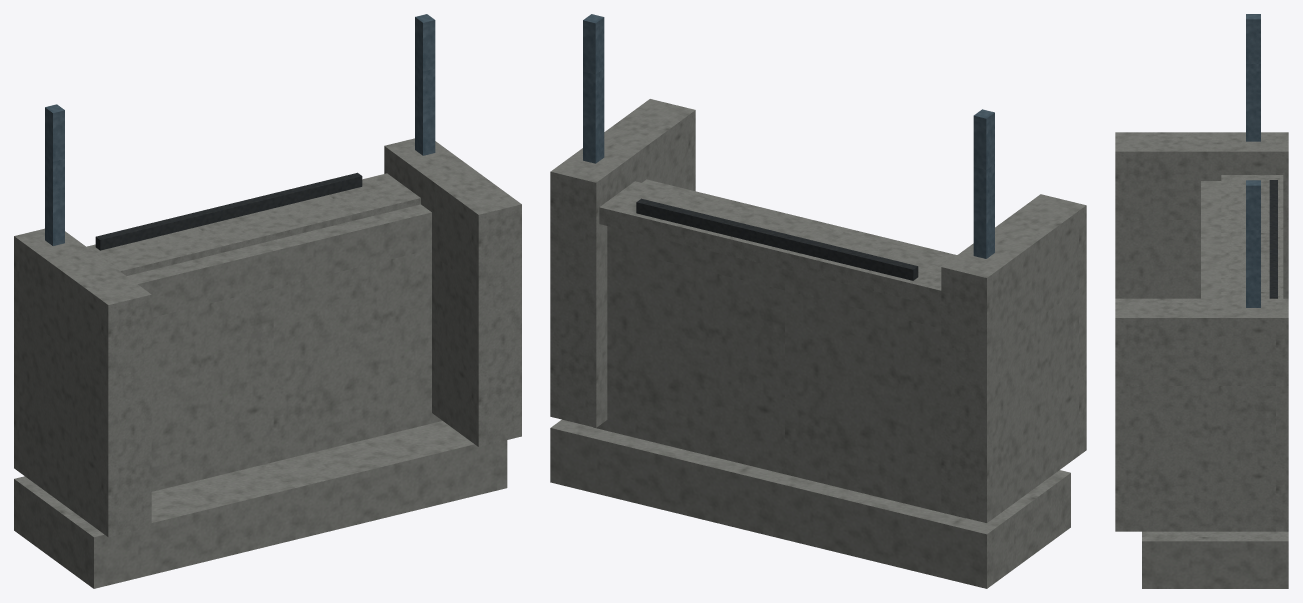
File: PZ_Caldera_EndAbutment.glb
3 renders of one model, left to right at view 1: azimuth 30°, elevation 25°; view 2: azimuth 150°, elevation 25°; view 3: azimuth 270°, elevation 25°, orthographic. The views are drawn at different scales.
Parts seen in each view (by area): view 1: PZ_Caldera_EndAbutment_CONCRETE_END_WALL, PZ_Caldera_EndAbutment_PEDESTAL_BASE, PZ_Caldera_EndAbutment_SIDE_CHEEK_L, PZ_Caldera_EndAbutment_SIDE_CHEEK_R, PZ_Caldera_EndAbutment_BEARING_SHELF, PZ_Caldera_EndAbutment_RUBBER_END_BEARING, PZ_Caldera_EndAbutment_HANDRAIL_STANCHION_R, PZ_Caldera_EndAbutment_HANDRAIL_STANCHION_L; view 2: PZ_Caldera_EndAbutment_CONCRETE_END_WALL, PZ_Caldera_EndAbutment_SIDE_CHEEK_L, PZ_Caldera_EndAbutment_PEDESTAL_BASE, PZ_Caldera_EndAbutment_SIDE_CHEEK_R, PZ_Caldera_EndAbutment_BEARING_SHELF, PZ_Caldera_EndAbutment_RUBBER_END_BEARING, PZ_Caldera_EndAbutment_HANDRAIL_STANCHION_L, PZ_Caldera_EndAbutment_HANDRAIL_STANCHION_R; view 3: PZ_Caldera_EndAbutment_SIDE_CHEEK_R, PZ_Caldera_EndAbutment_SIDE_CHEEK_L, PZ_Caldera_EndAbutment_PEDESTAL_BASE, PZ_Caldera_EndAbutment_BEARING_SHELF, PZ_Caldera_EndAbutment_CONCRETE_END_WALL, PZ_Caldera_EndAbutment_HANDRAIL_STANCHION_L, PZ_Caldera_EndAbutment_HANDRAIL_STANCHION_R, PZ_Caldera_EndAbutment_RUBBER_END_BEARING.
Part boxes in pixels (x1=…): PZ_Caldera_EndAbutment_CONCRETE_END_WALL: x1=127, y1=204, x2=442, y2=491; PZ_Caldera_EndAbutment_PEDESTAL_BASE: x1=14, y1=421, x2=507, y2=588; PZ_Caldera_EndAbutment_SIDE_CHEEK_L: x1=14, y1=228, x2=151, y2=537; PZ_Caldera_EndAbutment_SIDE_CHEEK_R: x1=384, y1=138, x2=521, y2=446; PZ_Caldera_EndAbutment_BEARING_SHELF: x1=87, y1=173, x2=420, y2=275; PZ_Caldera_EndAbutment_RUBBER_END_BEARING: x1=95, y1=172, x2=362, y2=250; PZ_Caldera_EndAbutment_HANDRAIL_STANCHION_R: x1=415, y1=14, x2=435, y2=155; PZ_Caldera_EndAbutment_HANDRAIL_STANCHION_L: x1=45, y1=104, x2=64, y2=245; PZ_Caldera_EndAbutment_CONCRETE_END_WALL: x1=593, y1=179, x2=965, y2=518; PZ_Caldera_EndAbutment_SIDE_CHEEK_L: x1=941, y1=194, x2=1086, y2=522; PZ_Caldera_EndAbutment_PEDESTAL_BASE: x1=550, y1=419, x2=1070, y2=588; PZ_Caldera_EndAbutment_SIDE_CHEEK_R: x1=550, y1=99, x2=695, y2=427; PZ_Caldera_EndAbutment_BEARING_SHELF: x1=599, y1=181, x2=951, y2=307; PZ_Caldera_EndAbutment_RUBBER_END_BEARING: x1=636, y1=198, x2=918, y2=280; PZ_Caldera_EndAbutment_HANDRAIL_STANCHION_L: x1=973, y1=109, x2=994, y2=258; PZ_Caldera_EndAbutment_HANDRAIL_STANCHION_R: x1=583, y1=14, x2=604, y2=163; PZ_Caldera_EndAbutment_SIDE_CHEEK_R: x1=1115, y1=298, x2=1288, y2=531; PZ_Caldera_EndAbutment_SIDE_CHEEK_L: x1=1115, y1=132, x2=1288, y2=298; PZ_Caldera_EndAbutment_PEDESTAL_BASE: x1=1142, y1=531, x2=1288, y2=588; PZ_Caldera_EndAbutment_BEARING_SHELF: x1=1221, y1=175, x2=1283, y2=298; PZ_Caldera_EndAbutment_CONCRETE_END_WALL: x1=1201, y1=181, x2=1221, y2=298; PZ_Caldera_EndAbutment_HANDRAIL_STANCHION_L: x1=1246, y1=14, x2=1260, y2=141; PZ_Caldera_EndAbutment_HANDRAIL_STANCHION_R: x1=1246, y1=180, x2=1260, y2=307; PZ_Caldera_EndAbutment_RUBBER_END_BEARING: x1=1269, y1=180, x2=1277, y2=298.
Size of the model in its own units: 4.1 by 4.08 by 1.62.
3 materials, 3 textured.
